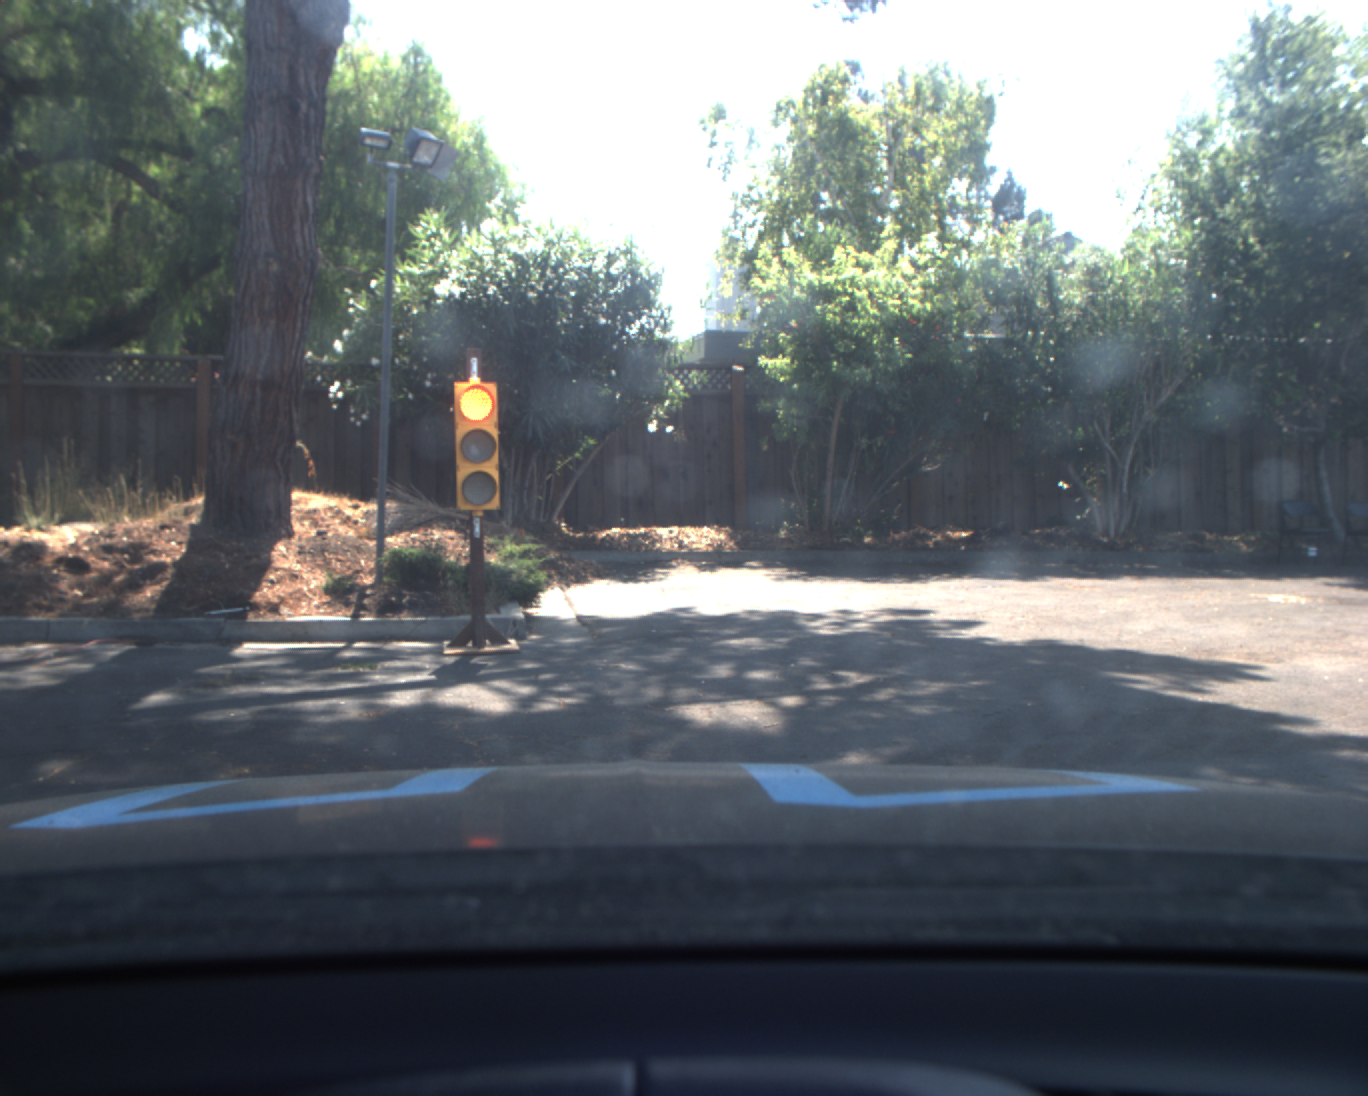red: (453, 374, 501, 514)
